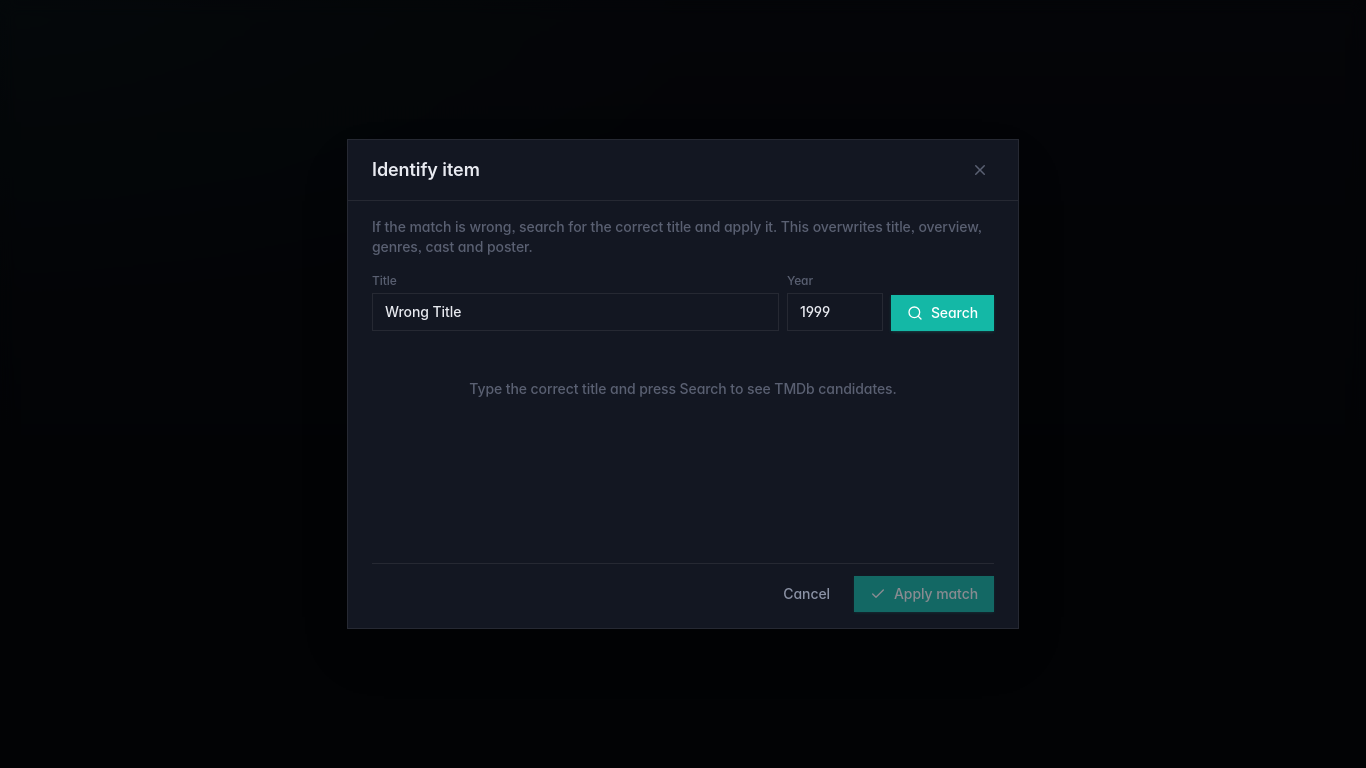
Test: IdentifyDialog › seeds the title + year from the current item and fetches on Search
The width and height of the screenshot is (1366, 768).
Check: the number field labelled "Year" holds "1999", box [787,293,883,331]
# User corrects the title and searches.
Replace the text in the field labelled "Title" with "Fight Club" at (575, 312), box [372,293,779,331]
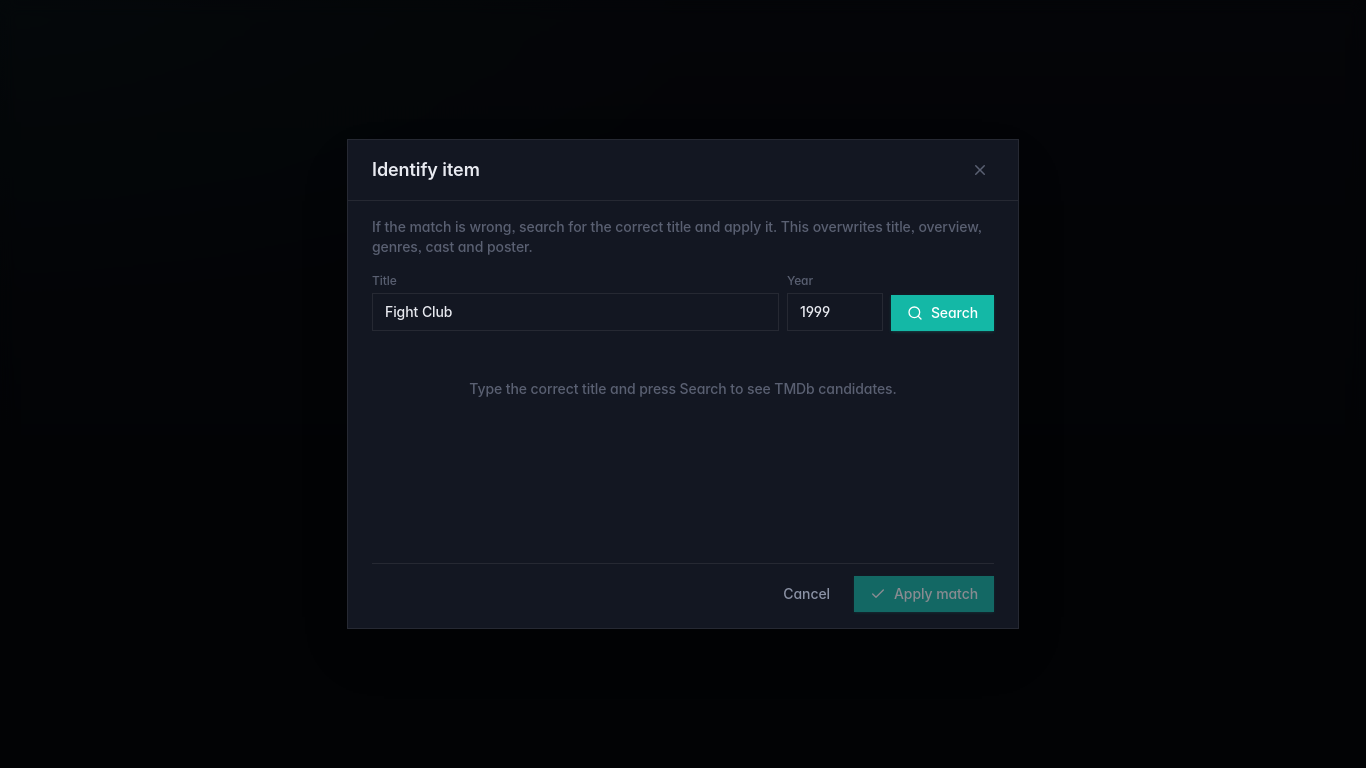
Click the button "Search" at (942, 313), box [891,295,994,331]
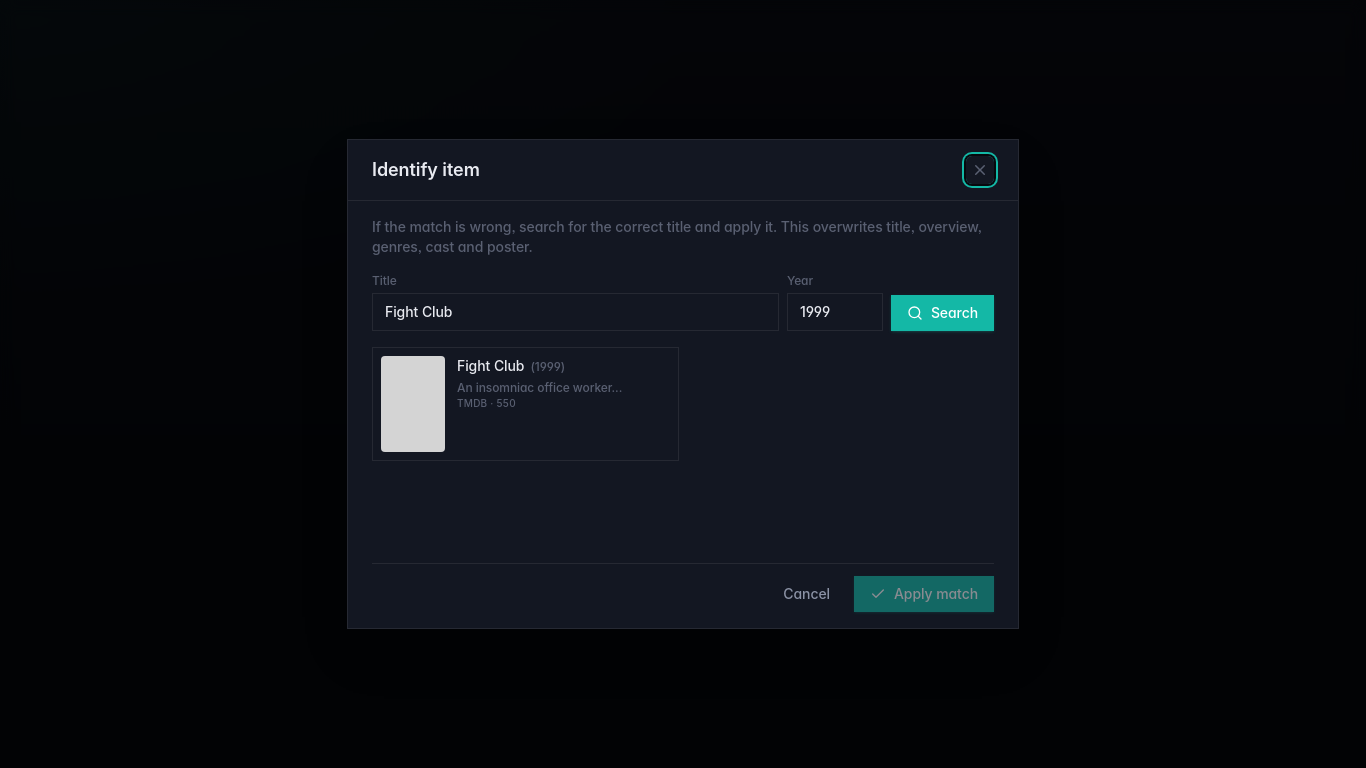
Check: the radio button with test id "identify-candidate" is shown, box [372,347,679,461]
Check: the text "Fight Club" is shown, box [457,356,524,376]
